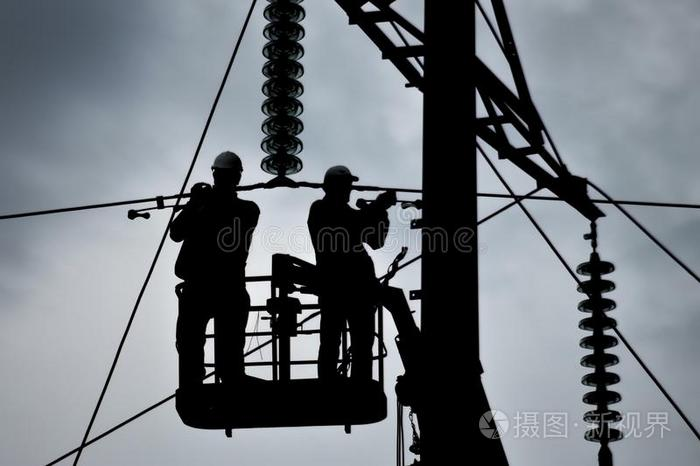insulator: (574, 258, 624, 443), (260, 1, 306, 177)
